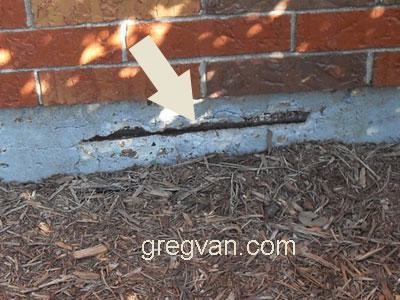Exposed reinforcement: (81, 111, 312, 143)
